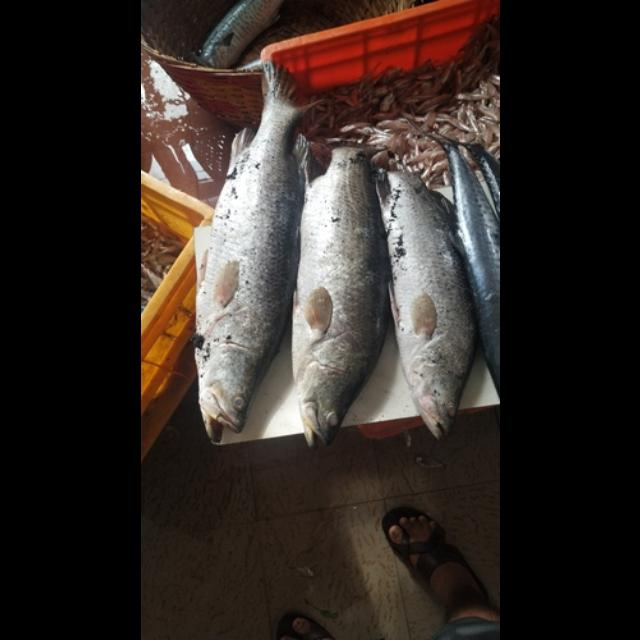Seabass: (192, 57, 316, 443), (291, 138, 391, 450), (373, 168, 475, 440)
